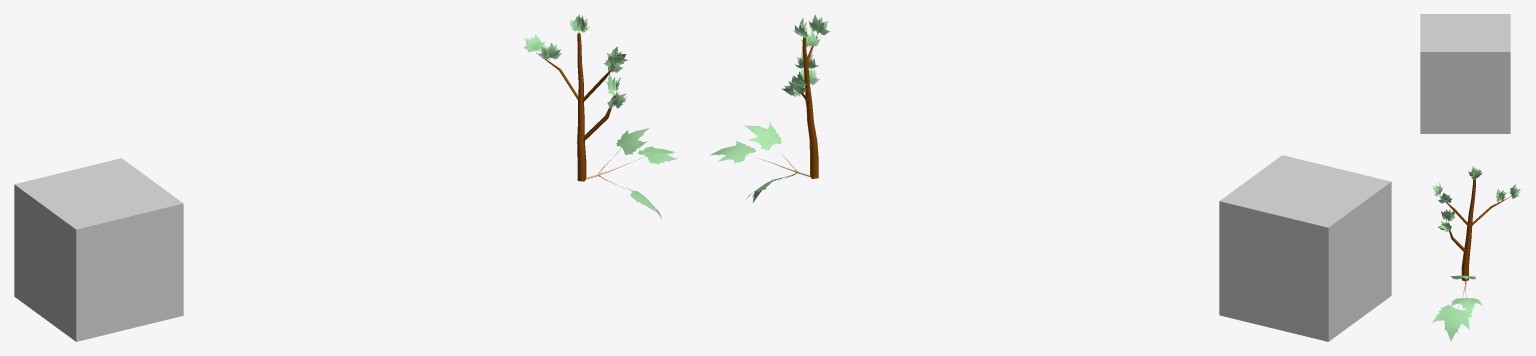
File: FinalTree7.fbx
3 renders of one model, left to right at view 1: azimuth 30°, elevation 25°; view 2: azimuth 150°, elevation 25°; view 3: azimuth 270°, elevation 25°, orthographic. The views are drawn at different scales.
Visible parts, largest first — view 1: Cube, Árbol, palmate.003; view 2: Cube, Árbol, palmate.003, palmate.001; view 3: Cube, Árbol, palmate.002, palmate.001, palmate.003.
Part boxes in pixels (x1,y1,x2,y2): Cube: (14, 158, 183, 341); Árbol: (536, 33, 617, 181); palmate.003: (614, 128, 648, 156); Cube: (1219, 155, 1391, 341); Árbol: (797, 34, 818, 178); palmate.003: (744, 122, 781, 153); palmate.001: (710, 141, 759, 163); Cube: (1420, 14, 1510, 133); Árbol: (1440, 178, 1509, 281); palmate.002: (1432, 303, 1472, 341); palmate.001: (1450, 295, 1482, 314); palmate.003: (1450, 275, 1476, 280).
Bounding box in the file's own units: 1185 × 374 × 225.
